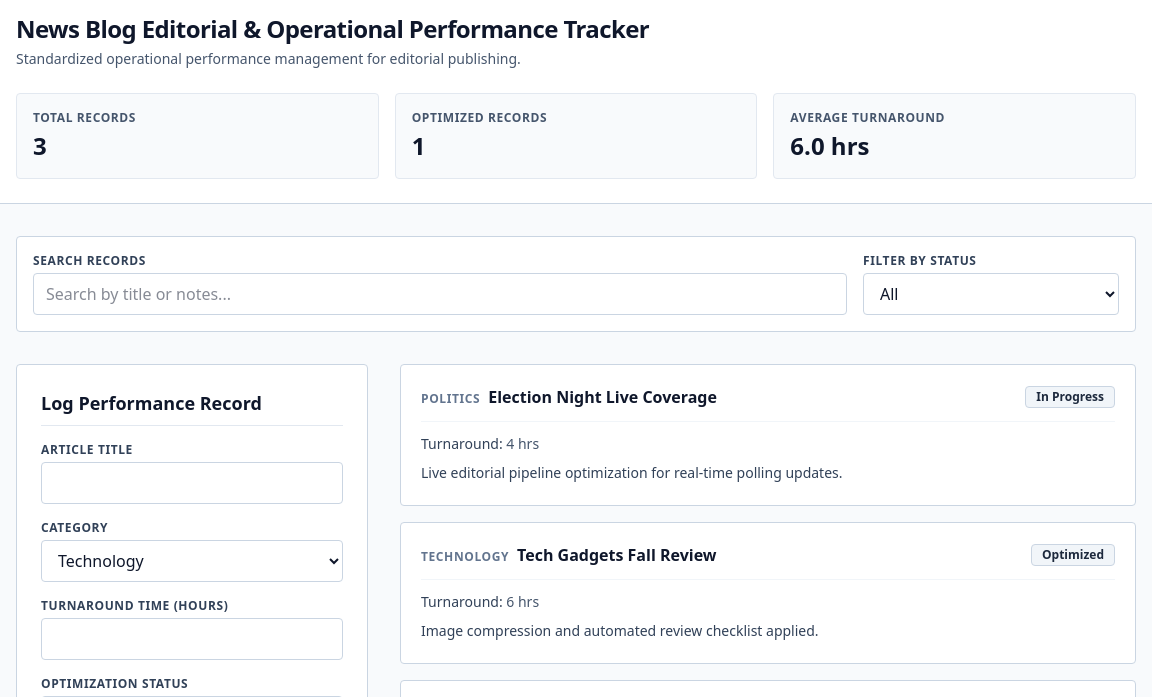
Test: News Blog Performance Tracker Acceptance Tests › logs exact telemetry upon successful primary user action
The width and height of the screenshot is (1152, 697).
Type "Fiscal Q4 Corporate Earnings Overview" into the field labelled "Article Title".
click(192, 483); type("Fiscal Q4 Corporate Earnings Overview")  # box [41,462,343,504]
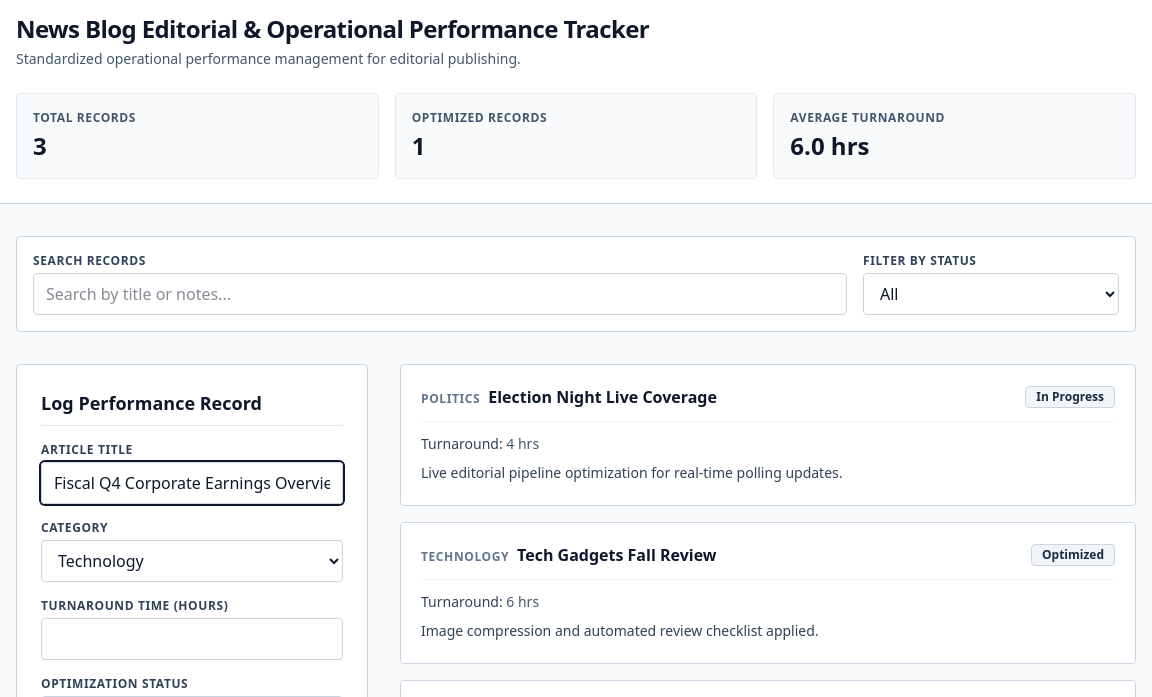
Select "Business" in the dropdown labelled "Category" at (192, 561), box [41,540,343,582]
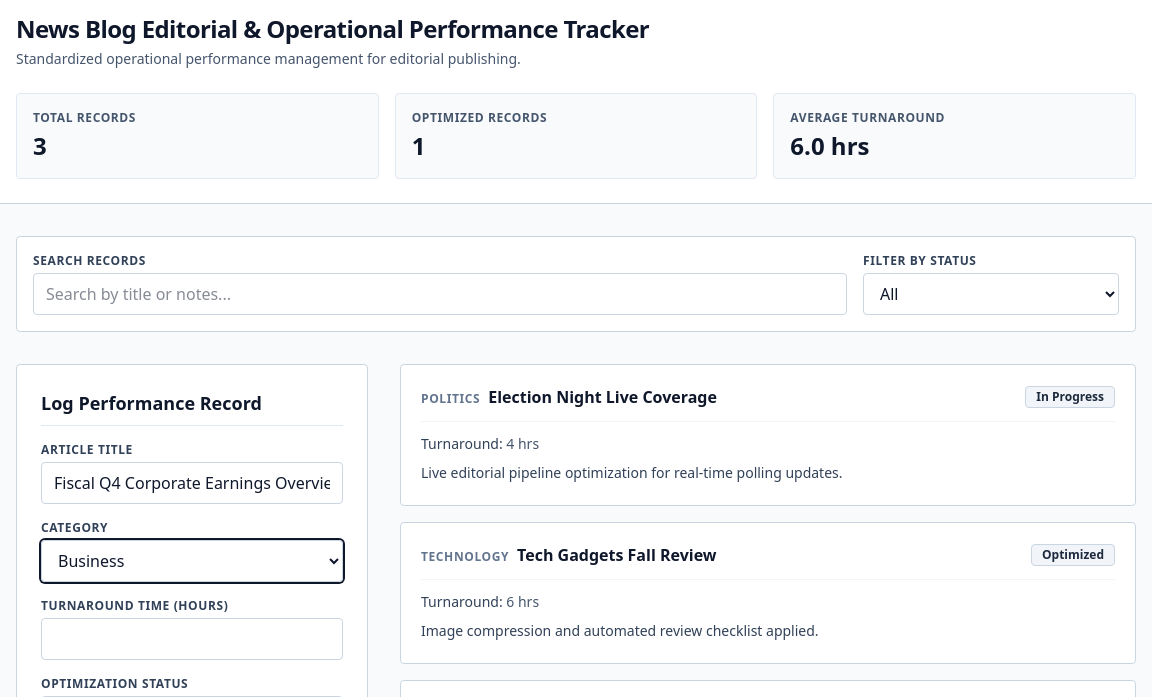
Type "8" into the number field labelled "Turnaround Time (Hours)".
click(192, 639); type("8")  # box [41,618,343,660]
(page scrolled)
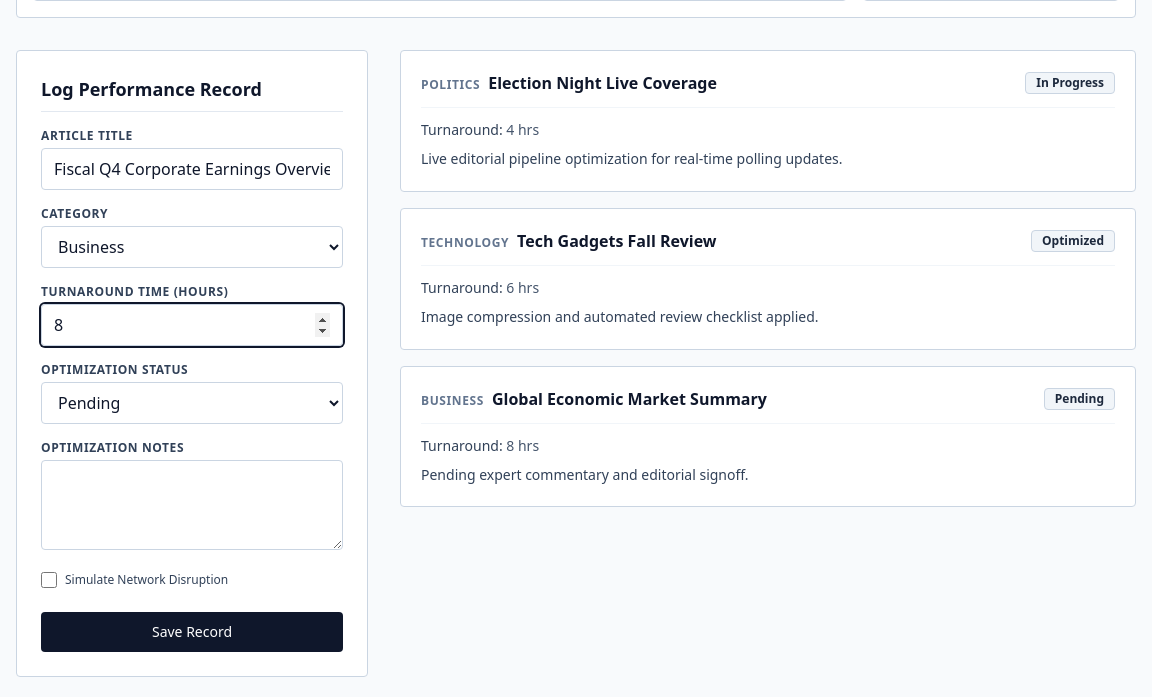
Select "Optimized" in the dropdown labelled "Optimization Status" at (192, 403), box [41,382,343,424]
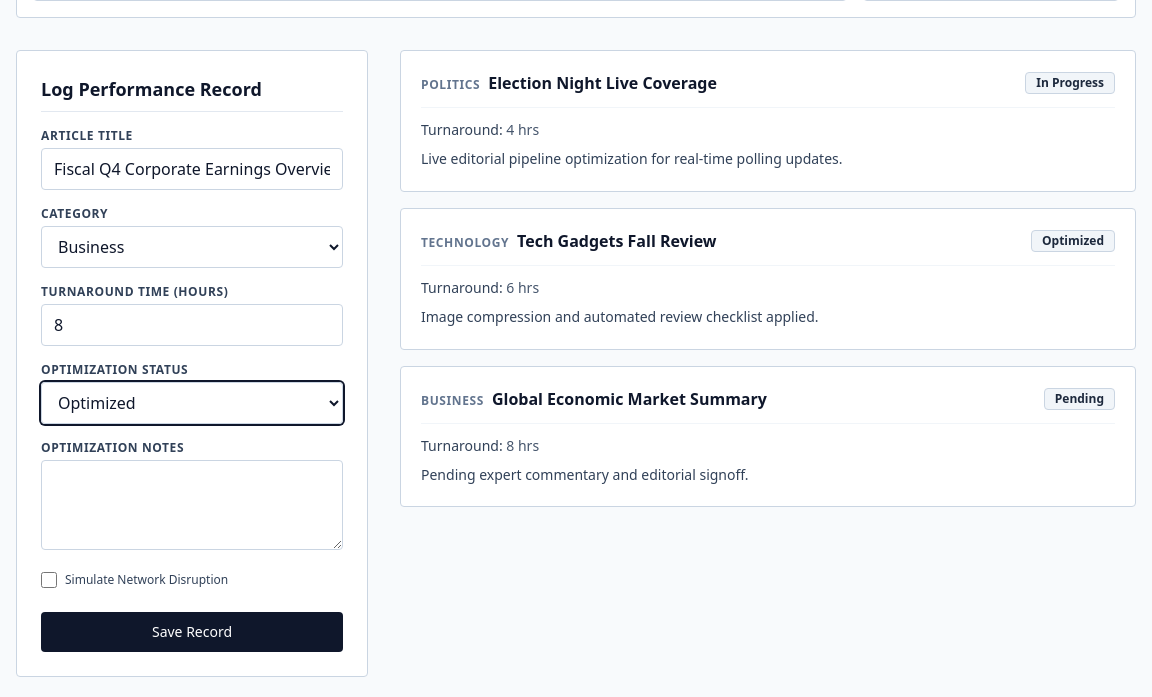
Type "Streamlined table formatting and automated charts." into the text box labelled "Optimization Notes".
click(192, 505); type("Streamlined table formatting and automated charts.")  # box [41,460,343,550]
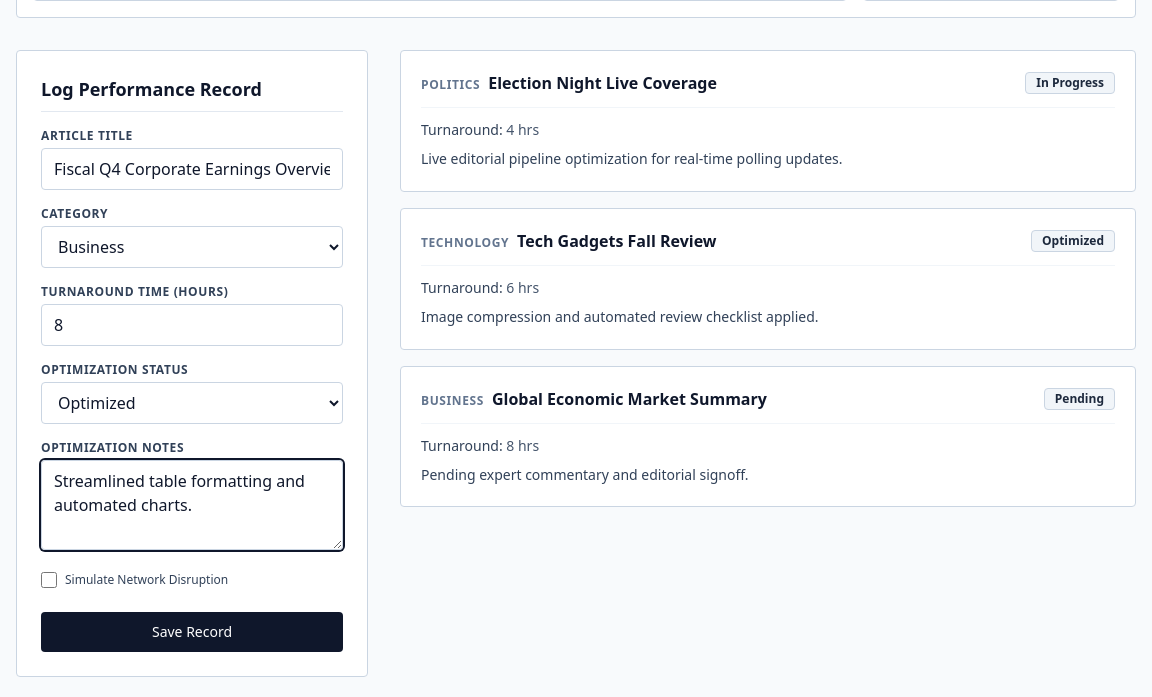
Click the button "Save Record".
click(192, 632)  # box [41,612,343,652]
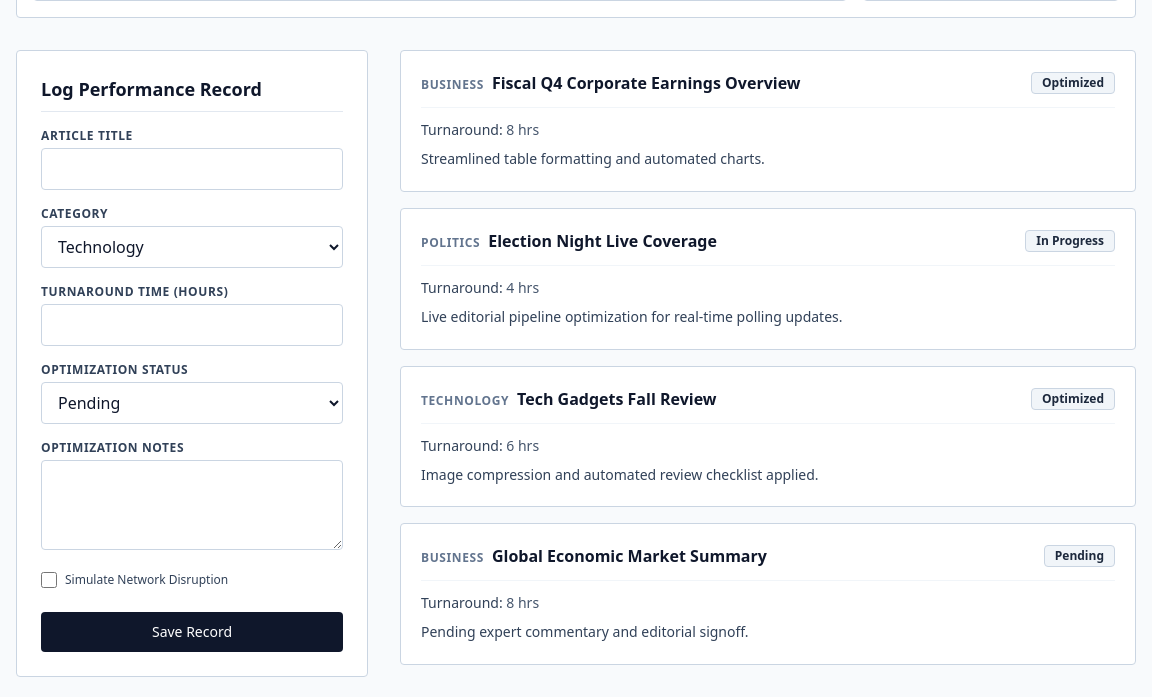
Expected: the heading "Fiscal Q4 Corporate Earnings Overview" is shown, [492,71,800,95]
